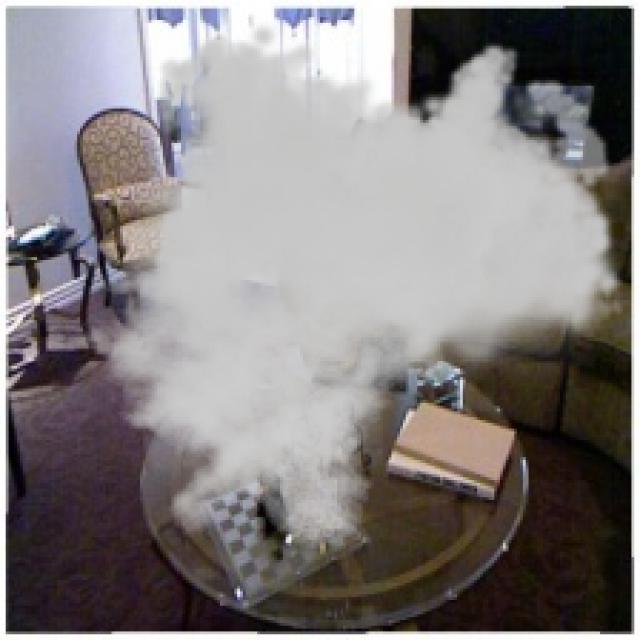smoke: (57, 20, 626, 551)
